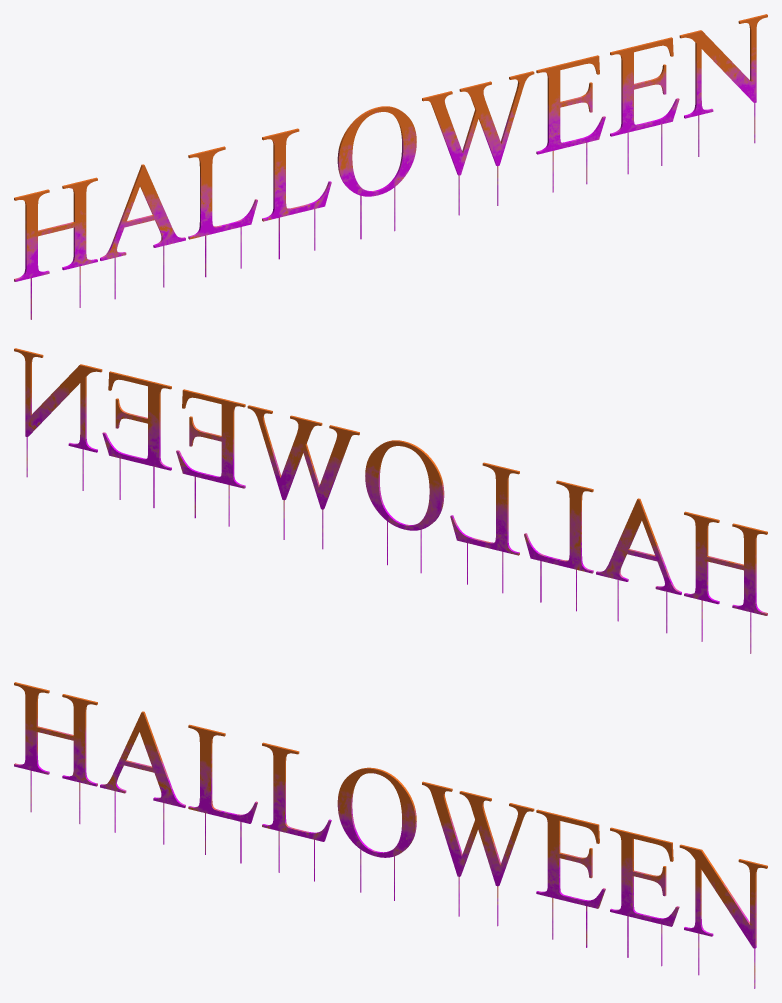
The model's file is Halloween_Sign.fbx.
3 renders of one model, top to bottom at view 1: azimuth 30°, elevation 25°; view 2: azimuth 150°, elevation 25°; view 3: azimuth 330°, elevation 25°, orthographic.
Parts seen in each view (by area): view 1: C_HalloweenSign; view 2: C_HalloweenSign; view 3: C_HalloweenSign.
Boxes of the visible parts, x1,y1,x2,y2 form: C_HalloweenSign: (14, 14, 767, 319); C_HalloweenSign: (14, 348, 767, 653); C_HalloweenSign: (14, 682, 767, 988).
Size of the model in its own units: 135 by 0.3937 by 21.91.
